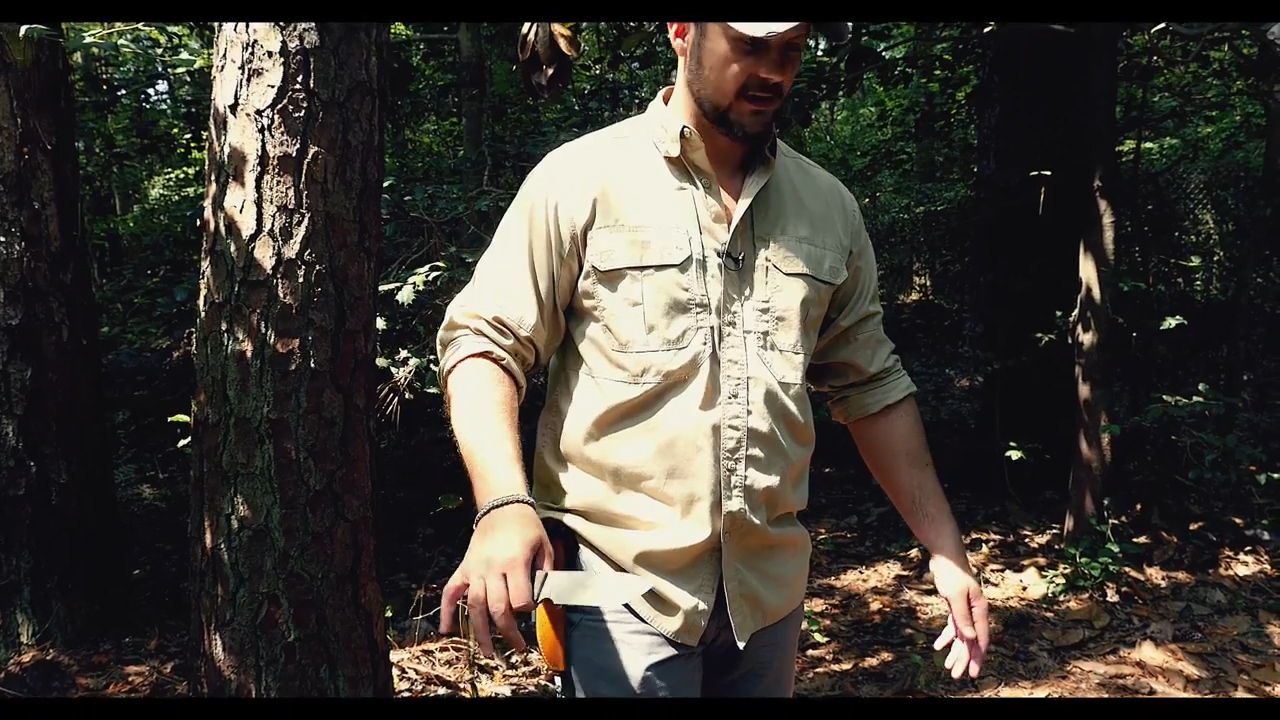knife: (453, 563, 667, 625)
